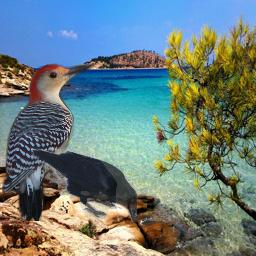Crow: (31, 149, 137, 222)
Woodpecker: (2, 63, 95, 221)
